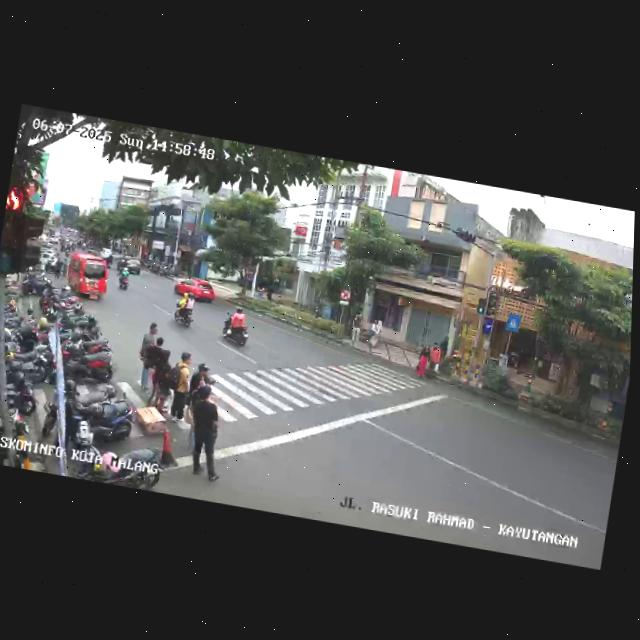car: (61, 251, 111, 303), (170, 273, 217, 305), (122, 257, 143, 275)
motorcycle: (218, 303, 254, 351), (171, 289, 199, 330), (116, 266, 133, 293)
person: (182, 382, 233, 484), (178, 371, 214, 459), (166, 349, 196, 421), (133, 319, 159, 392), (140, 333, 165, 404), (150, 347, 175, 412), (412, 341, 431, 379), (425, 341, 443, 379), (349, 310, 363, 345)
